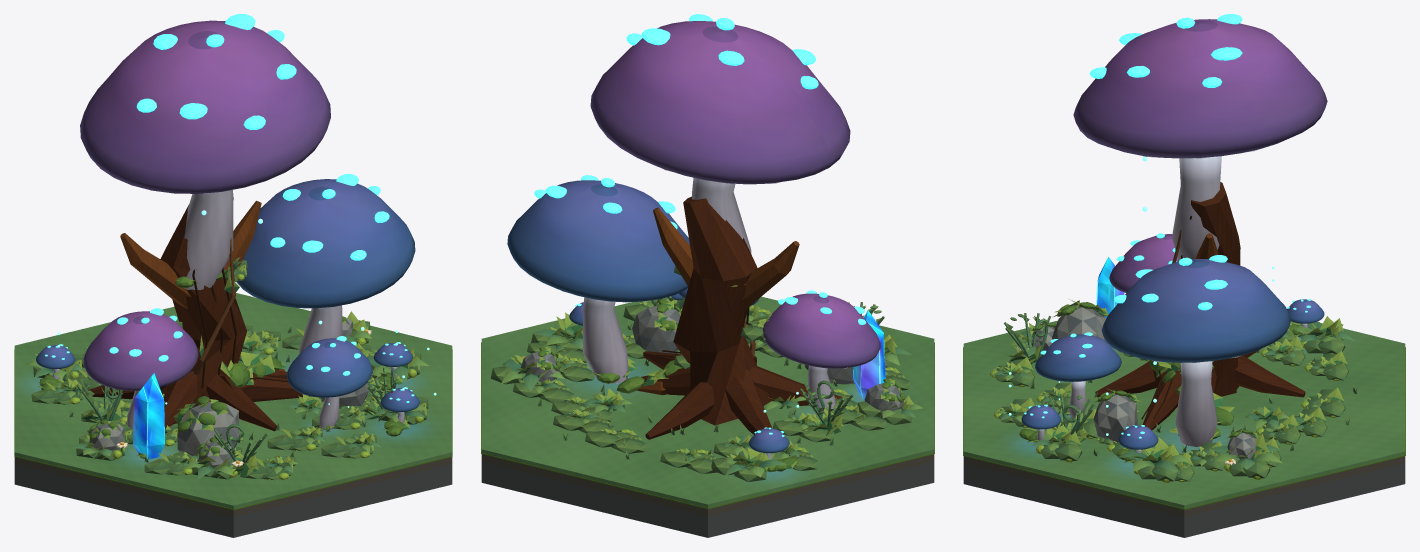
File: hex_bioluminescent_grove.glb
The picture shows the model from 3 angles, left to right: view 1: azimuth 30°, elevation 25°; view 2: azimuth 150°, elevation 25°; view 3: azimuth 270°, elevation 25°; orthographic projection. The views are drawn at different scales.
Visible parts, largest first — view 1: Broad faceted mushroom cap.002, Standard hex meadow top.001, Broad faceted mushroom cap.003, Standard hex stone foundation.001, Broad faceted mushroom cap.004, Ancient twisting trunk.001, Curving luminous mushroom stem.002, Broad faceted mushroom cap.005, Standard hex earth layer.001, Faceted magical crystal.001, Angular mossy forest boulder.001, Broken woodland branch.002 (+11 smaller); view 2: Standard hex meadow top.001, Broad faceted mushroom cap.002, Broad faceted mushroom cap.003, Ancient twisting trunk.001, Standard hex stone foundation.001, Broad faceted mushroom cap.004, Standard hex earth layer.001, Curving luminous mushroom stem.003, Tree buttress root.006, Tree buttress root.007, Curving luminous mushroom stem.002, Angular mossy forest boulder.002 (+10 smaller); view 3: Standard hex meadow top.001, Broad faceted mushroom cap.002, Broad faceted mushroom cap.003, Standard hex stone foundation.001, Standard hex earth layer.001, Curving luminous mushroom stem.002, Broad faceted mushroom cap.005, Curving luminous mushroom stem.003, Ancient twisting trunk.001, Broad faceted mushroom cap.004, Angular mossy forest boulder.002, Tree buttress root.006 (+8 smaller).
Part boxes in pixels (x1,y1,x2,y2): Broad faceted mushroom cap.002: [80, 20, 330, 193]; Standard hex meadow top.001: [14, 293, 452, 509]; Broad faceted mushroom cap.003: [236, 179, 415, 308]; Standard hex stone foundation.001: [14, 464, 452, 537]; Broad faceted mushroom cap.004: [83, 311, 198, 390]; Ancient twisting trunk.001: [160, 197, 246, 407]; Curving luminous mushroom stem.002: [184, 190, 233, 289]; Broad faceted mushroom cap.005: [286, 338, 372, 397]; Standard hex earth layer.001: [14, 457, 452, 517]; Faceted magical crystal.001: [132, 373, 164, 459]; Angular mossy forest boulder.001: [177, 401, 239, 461]; Broken woodland branch.002: [120, 233, 191, 308]; Standard hex meadow top.001: [481, 296, 934, 507]; Broad faceted mushroom cap.002: [590, 21, 850, 184]; Broad faceted mushroom cap.003: [507, 180, 689, 302]; Ancient twisting trunk.001: [673, 196, 771, 425]; Standard hex stone foundation.001: [481, 461, 934, 537]; Broad faceted mushroom cap.004: [763, 293, 880, 368]; Standard hex earth layer.001: [481, 454, 934, 516]; Curving luminous mushroom stem.003: [582, 297, 628, 383]; Tree buttress root.006: [645, 382, 714, 439]; Tree buttress root.007: [725, 369, 771, 434]; Curving luminous mushroom stem.002: [692, 177, 751, 253]; Angular mossy forest boulder.002: [632, 305, 680, 353]; Standard hex meadow top.001: [963, 320, 1405, 508]; Broad faceted mushroom cap.002: [1073, 19, 1327, 158]; Broad faceted mushroom cap.003: [1101, 259, 1291, 362]; Standard hex stone foundation.001: [963, 463, 1405, 537]; Standard hex earth layer.001: [963, 456, 1405, 516]; Curving luminous mushroom stem.002: [1172, 156, 1221, 261]; Broad faceted mushroom cap.005: [1035, 334, 1121, 381]; Curving luminous mushroom stem.003: [1175, 361, 1217, 446]; Ancient twisting trunk.001: [1178, 182, 1240, 396]; Broad faceted mushroom cap.004: [1109, 234, 1177, 292]; Angular mossy forest boulder.002: [1093, 392, 1137, 442]; Tree buttress root.006: [1234, 355, 1305, 397].
Size of the model in its own units: 5.11 by 4.45 by 4.42.
Materials: 45 (35 with a texture image).
